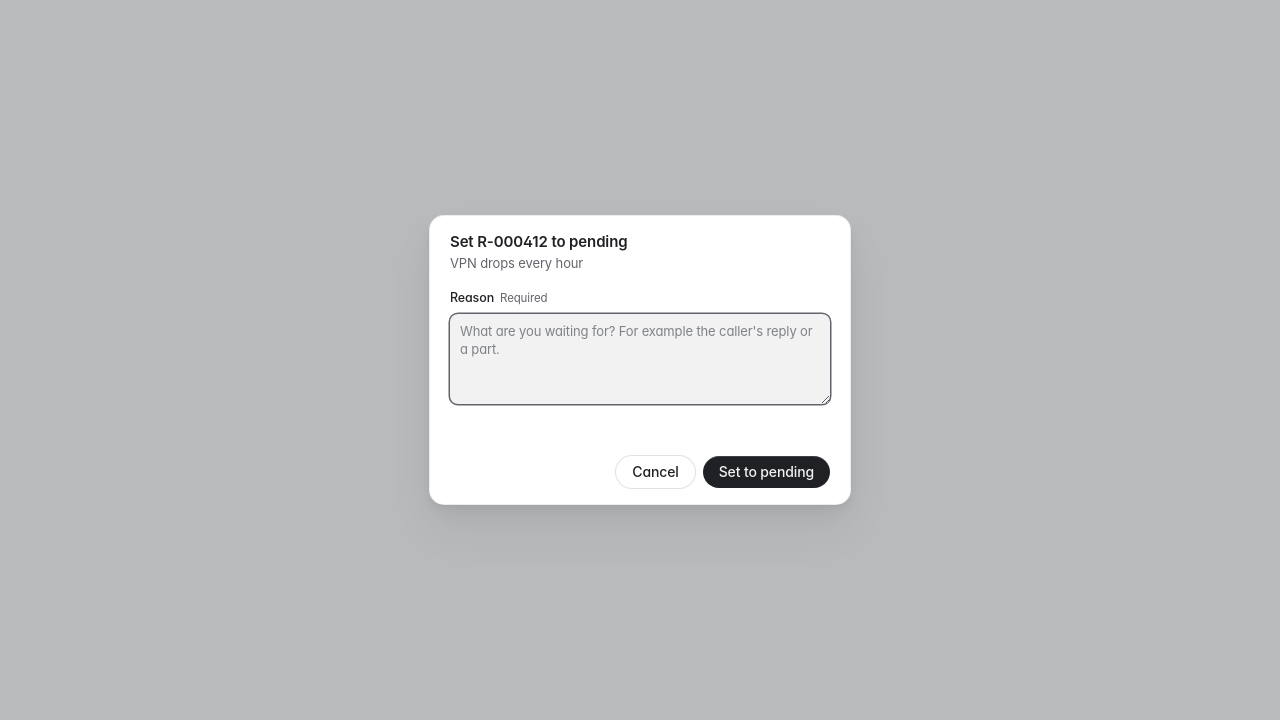
Test: Pending sheet (LC-9…12) › keeps the text and shows iTop’s refusal (LC-12)
Type "this will fail" into the text box labelled "Reason" at (640, 359), box [450,314,830,404]
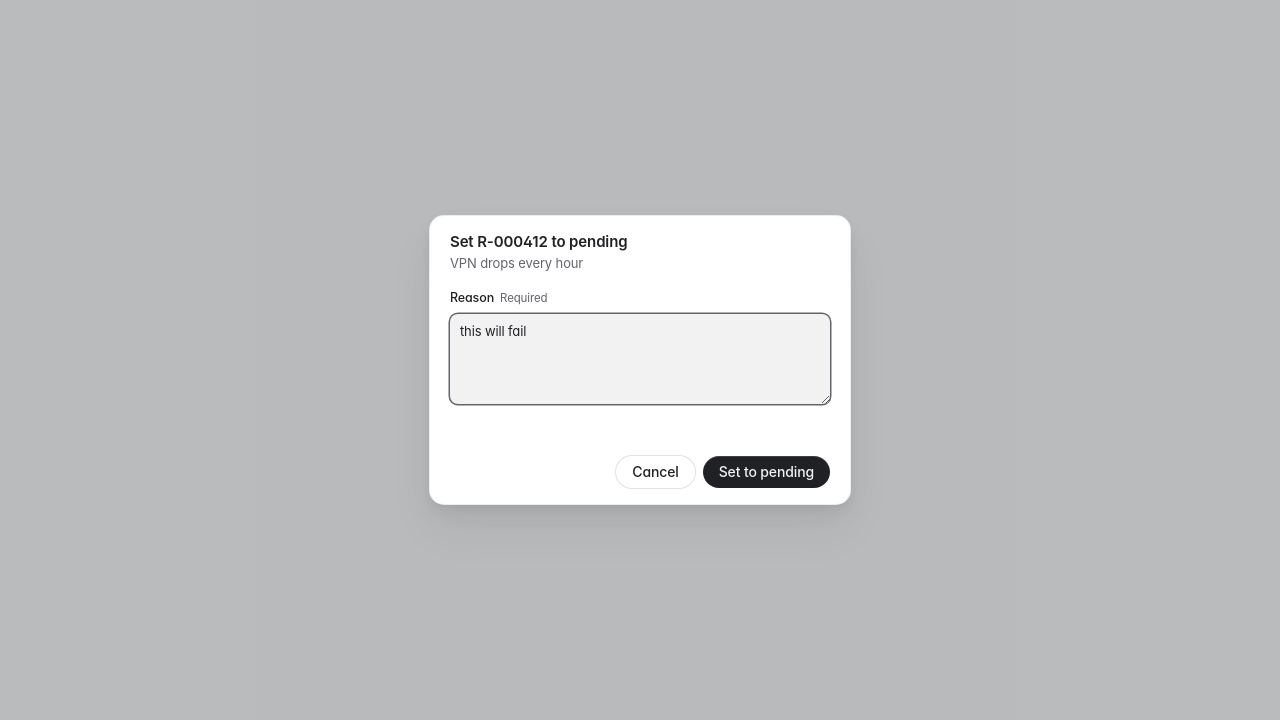
Click the button "Set to pending" at (766, 472), box [703,456,830,488]
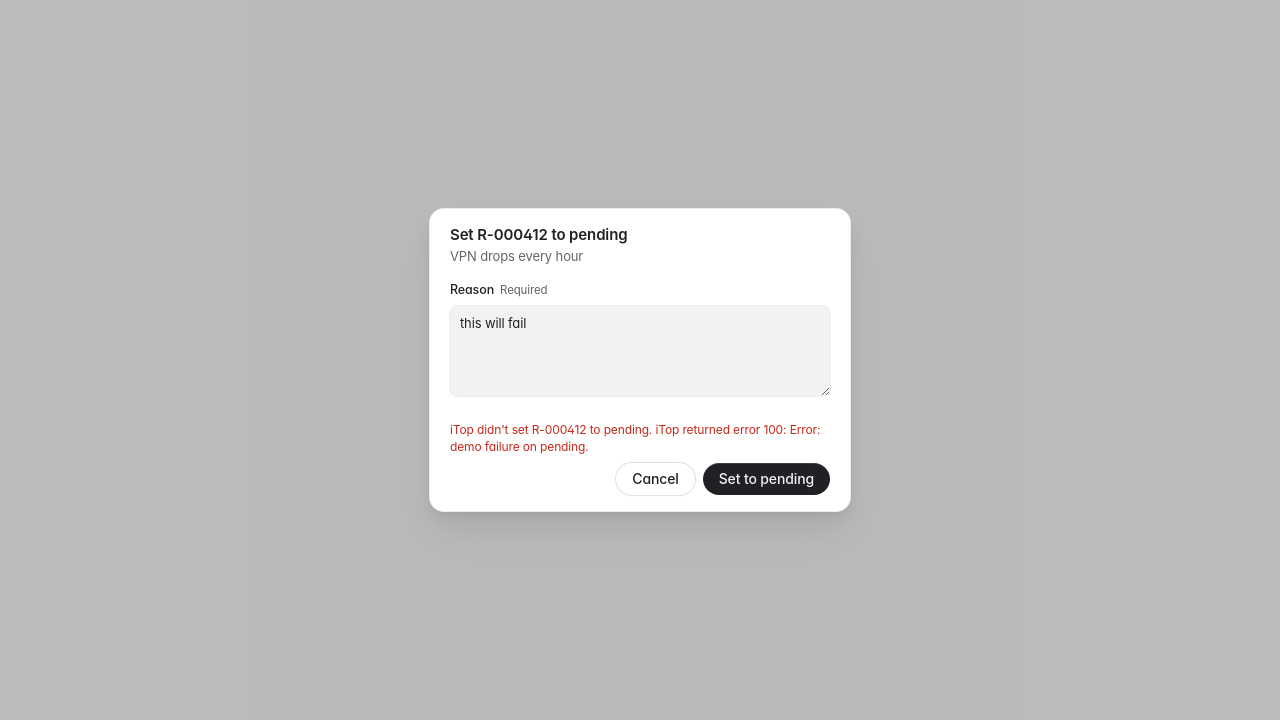
Check: the text "iTop didn't set R-000412 to pending." is shown, box [450,422,820,454]
